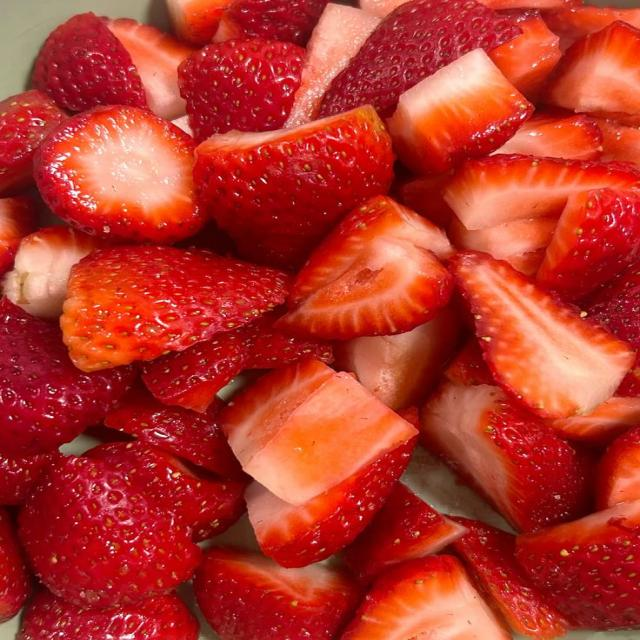strawberry sliced: (194, 106, 394, 268), (452, 251, 634, 417), (220, 360, 415, 506), (61, 245, 288, 370), (20, 456, 200, 607), (421, 382, 593, 530), (277, 197, 452, 339), (34, 106, 205, 243), (320, 0, 521, 116), (246, 439, 416, 567), (0, 298, 134, 457), (143, 313, 333, 411), (288, 196, 453, 308), (388, 49, 533, 173), (85, 442, 246, 541), (517, 501, 639, 629), (194, 547, 361, 639), (444, 155, 639, 229), (454, 518, 570, 639), (342, 556, 511, 639), (334, 307, 459, 410), (179, 39, 304, 142), (105, 386, 241, 477), (345, 483, 466, 583), (286, 3, 379, 127), (536, 189, 639, 300), (33, 13, 146, 111), (547, 21, 639, 125), (3, 226, 106, 318), (19, 589, 199, 639), (107, 19, 194, 120), (0, 90, 66, 196), (489, 11, 560, 100), (449, 216, 556, 275), (497, 112, 606, 159), (547, 396, 639, 447), (226, 0, 327, 45), (588, 265, 639, 350), (544, 6, 639, 45), (0, 508, 32, 623), (596, 427, 639, 509), (392, 173, 453, 228), (167, 0, 231, 46), (0, 453, 56, 505), (0, 196, 36, 276), (445, 338, 494, 385), (597, 119, 639, 163), (213, 11, 247, 43), (480, 0, 582, 10), (358, 0, 407, 18), (172, 115, 193, 136)
